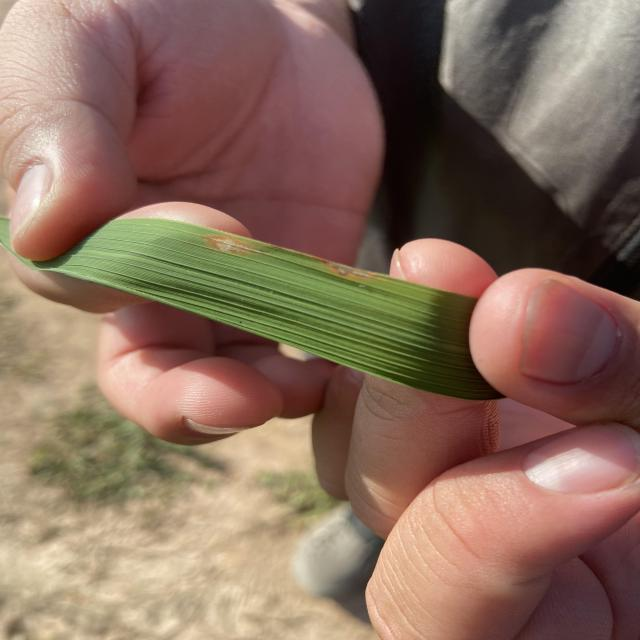Dao on: (323, 259, 371, 277), (208, 236, 256, 252)
